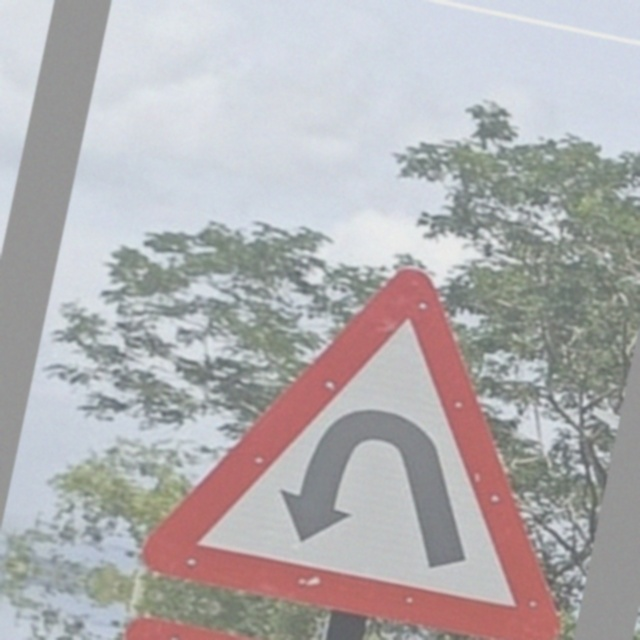Left_Hair_Pin_Bend: (139, 215, 634, 639)
